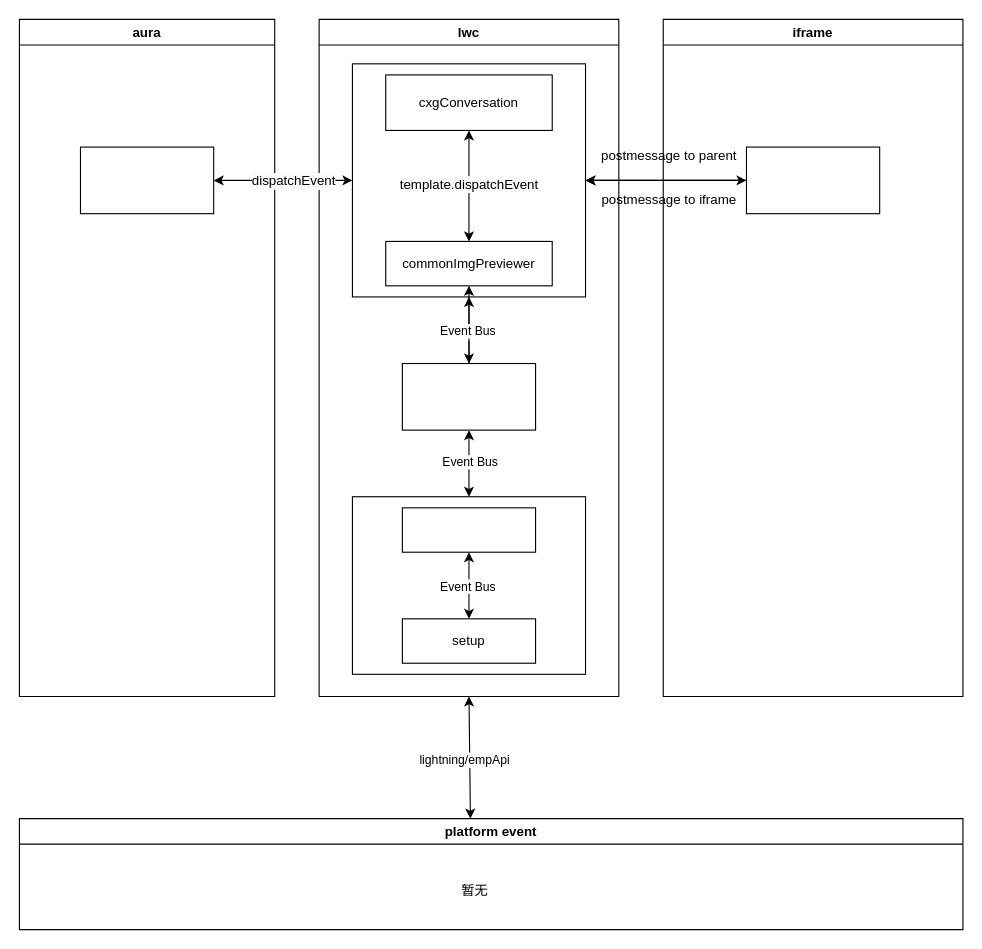
Some shapes in this 982 by 949 pixel diagram are drawn without their labels. Each missing label, with the centre of its shape:
"conversation.zip" belongs at (812,180).
"cxgConversationAura" belongs at (146,180).
"event center" belongs at (468,396).
"setup event center" belongs at (468,529).
